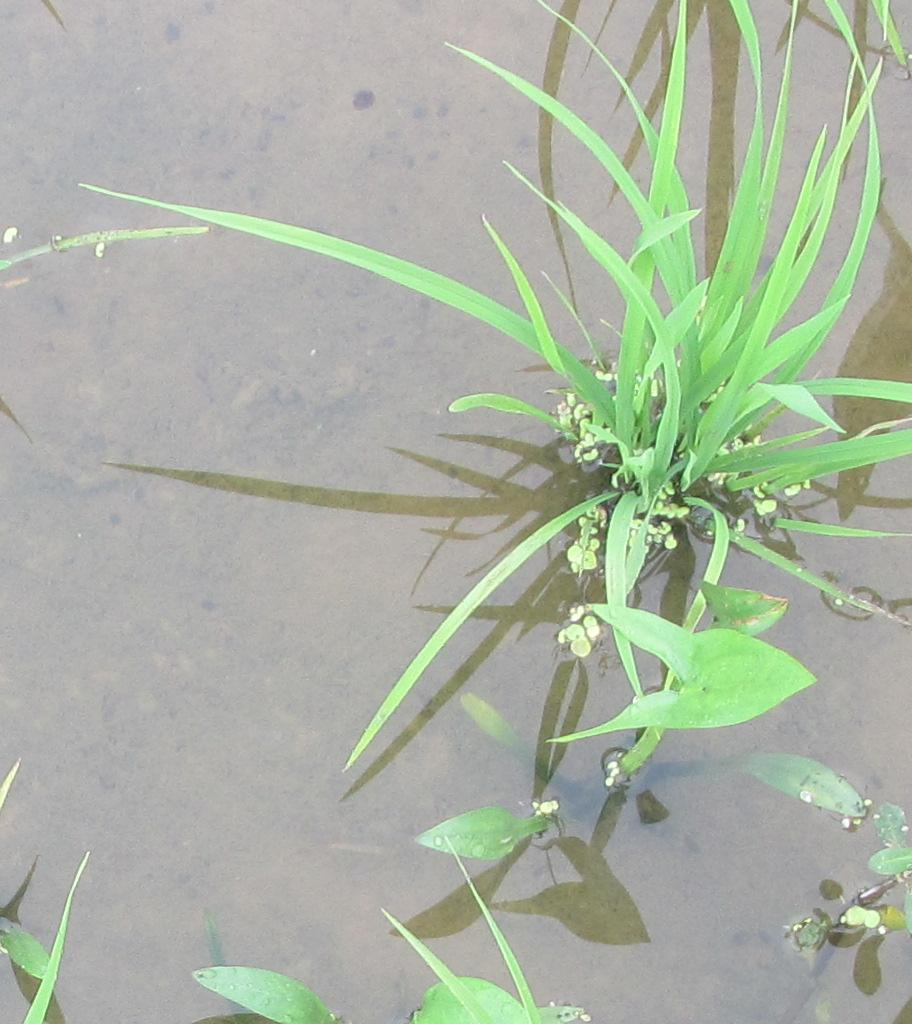Weed: (572, 589, 828, 760), (182, 952, 576, 1024)
